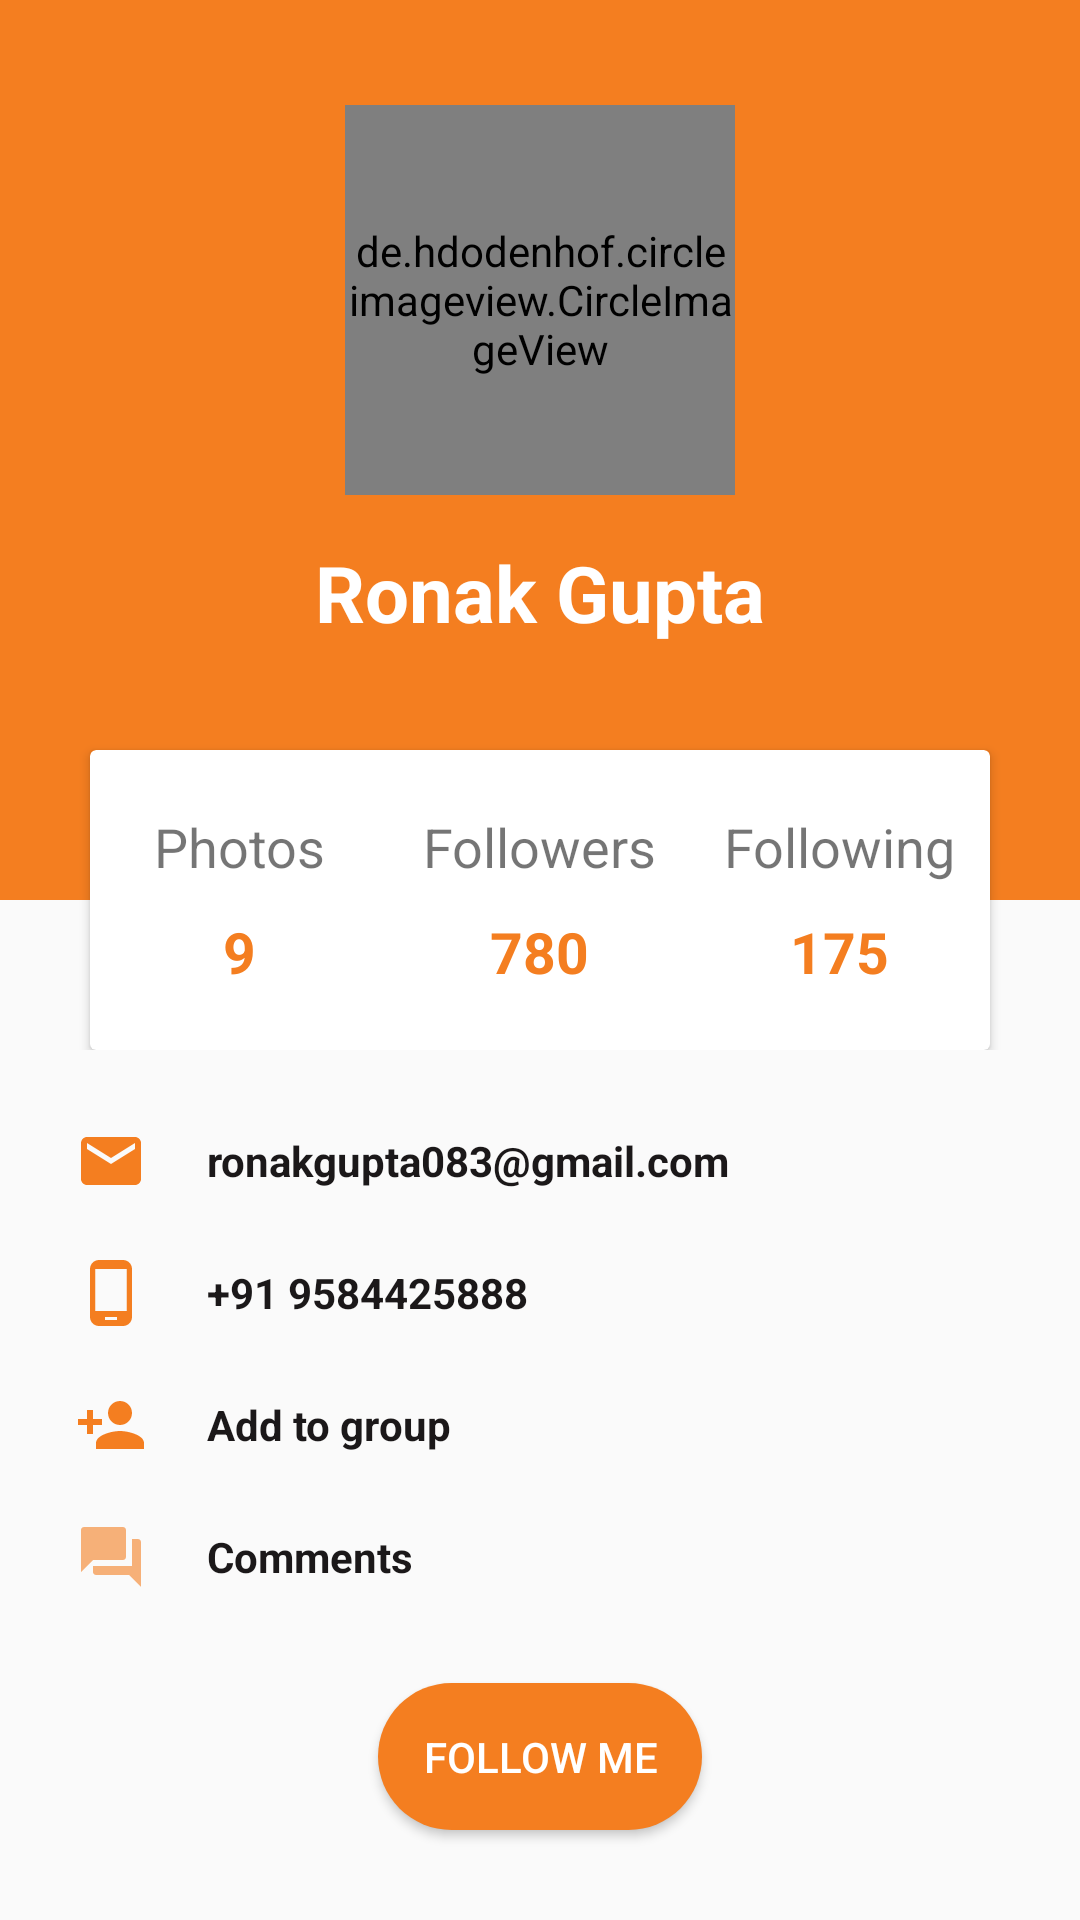

Icon click points for this 1080 × 1920 phone screenshot, format [x,y]:
email: [111,1161]
message: [111,1557]
person add: [111,1425]
phone android: [111,1293]
